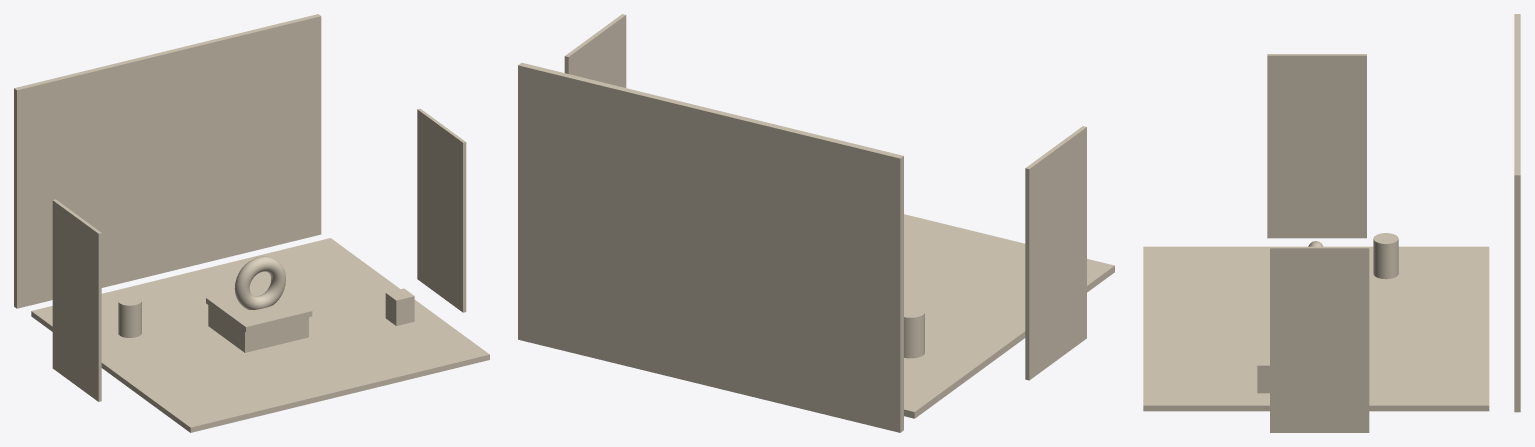
Rendered from product-pedestal.gltf.
The picture shows the model from 3 angles, left to right: view 1: azimuth 30°, elevation 25°; view 2: azimuth 150°, elevation 25°; view 3: azimuth 270°, elevation 25°; orthographic projection. The views are drawn at different scales.
Visible parts, largest first — view 1: cube-26, cube-25, cube-33, cube-32, cube-28, cube-27, torus-29, cube-31, cylinder-30; view 2: cube-26, cube-25, cube-32, cube-33, cylinder-30; view 3: cube-25, cube-33, cube-32, cube-26, cylinder-30, cube-31.
Part boxes in pixels (x1=…): cube-26: x1=14, y1=14, x2=321, y2=308; cube-25: x1=31, y1=238, x2=489, y2=432; cube-33: x1=417, y1=108, x2=466, y2=312; cube-32: x1=52, y1=199, x2=101, y2=401; cube-28: x1=206, y1=282, x2=312, y2=332; cube-27: x1=208, y1=305, x2=308, y2=352; torus-29: x1=234, y1=256, x2=285, y2=309; cube-31: x1=385, y1=288, x2=414, y2=325; cylinder-30: x1=118, y1=296, x2=141, y2=337; cube-26: x1=518, y1=63, x2=903, y2=432; cube-25: x1=904, y1=214, x2=1114, y2=418; cube-32: x1=1025, y1=126, x2=1086, y2=380; cube-33: x1=564, y1=14, x2=626, y2=87; cylinder-30: x1=904, y1=305, x2=924, y2=358; cube-25: x1=1143, y1=246, x2=1489, y2=411; cube-33: x1=1270, y1=246, x2=1369, y2=432; cube-32: x1=1267, y1=54, x2=1366, y2=238; cube-26: x1=1514, y1=14, x2=1520, y2=412; cylinder-30: x1=1373, y1=233, x2=1398, y2=279; cube-31: x1=1257, y1=356, x2=1269, y2=393.
Bounding box in the file's own units: 7.07 × 4.06 × 5.77.
